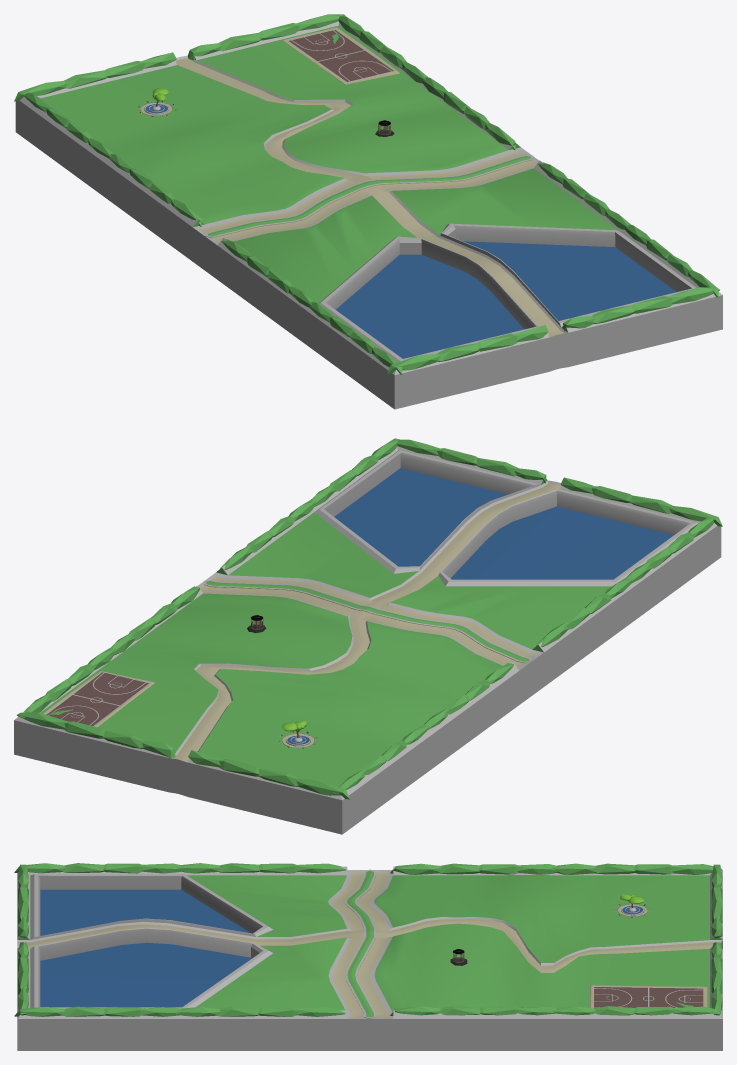
Rendered from Central_Park.fbx.
3 views of the same model, one above another, from view 1: azimuth 30°, elevation 25°; view 2: azimuth 150°, elevation 25°; view 3: azimuth 270°, elevation 25° (orthographic). The views are drawn at different scales.
Visible parts, largest first — view 1: bigPark; view 2: bigPark; view 3: bigPark.
Boxes of the visible parts, x1,y1,x2,y2 form: bigPark: (14, 14, 722, 409); bigPark: (14, 438, 722, 834); bigPark: (14, 863, 722, 1050).
Size of the model in its own units: 6087 by 1050 by 12059.
